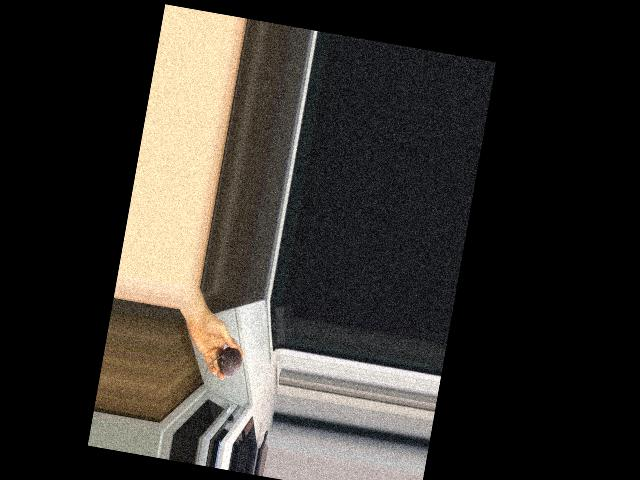beet: (204, 343, 243, 381)
